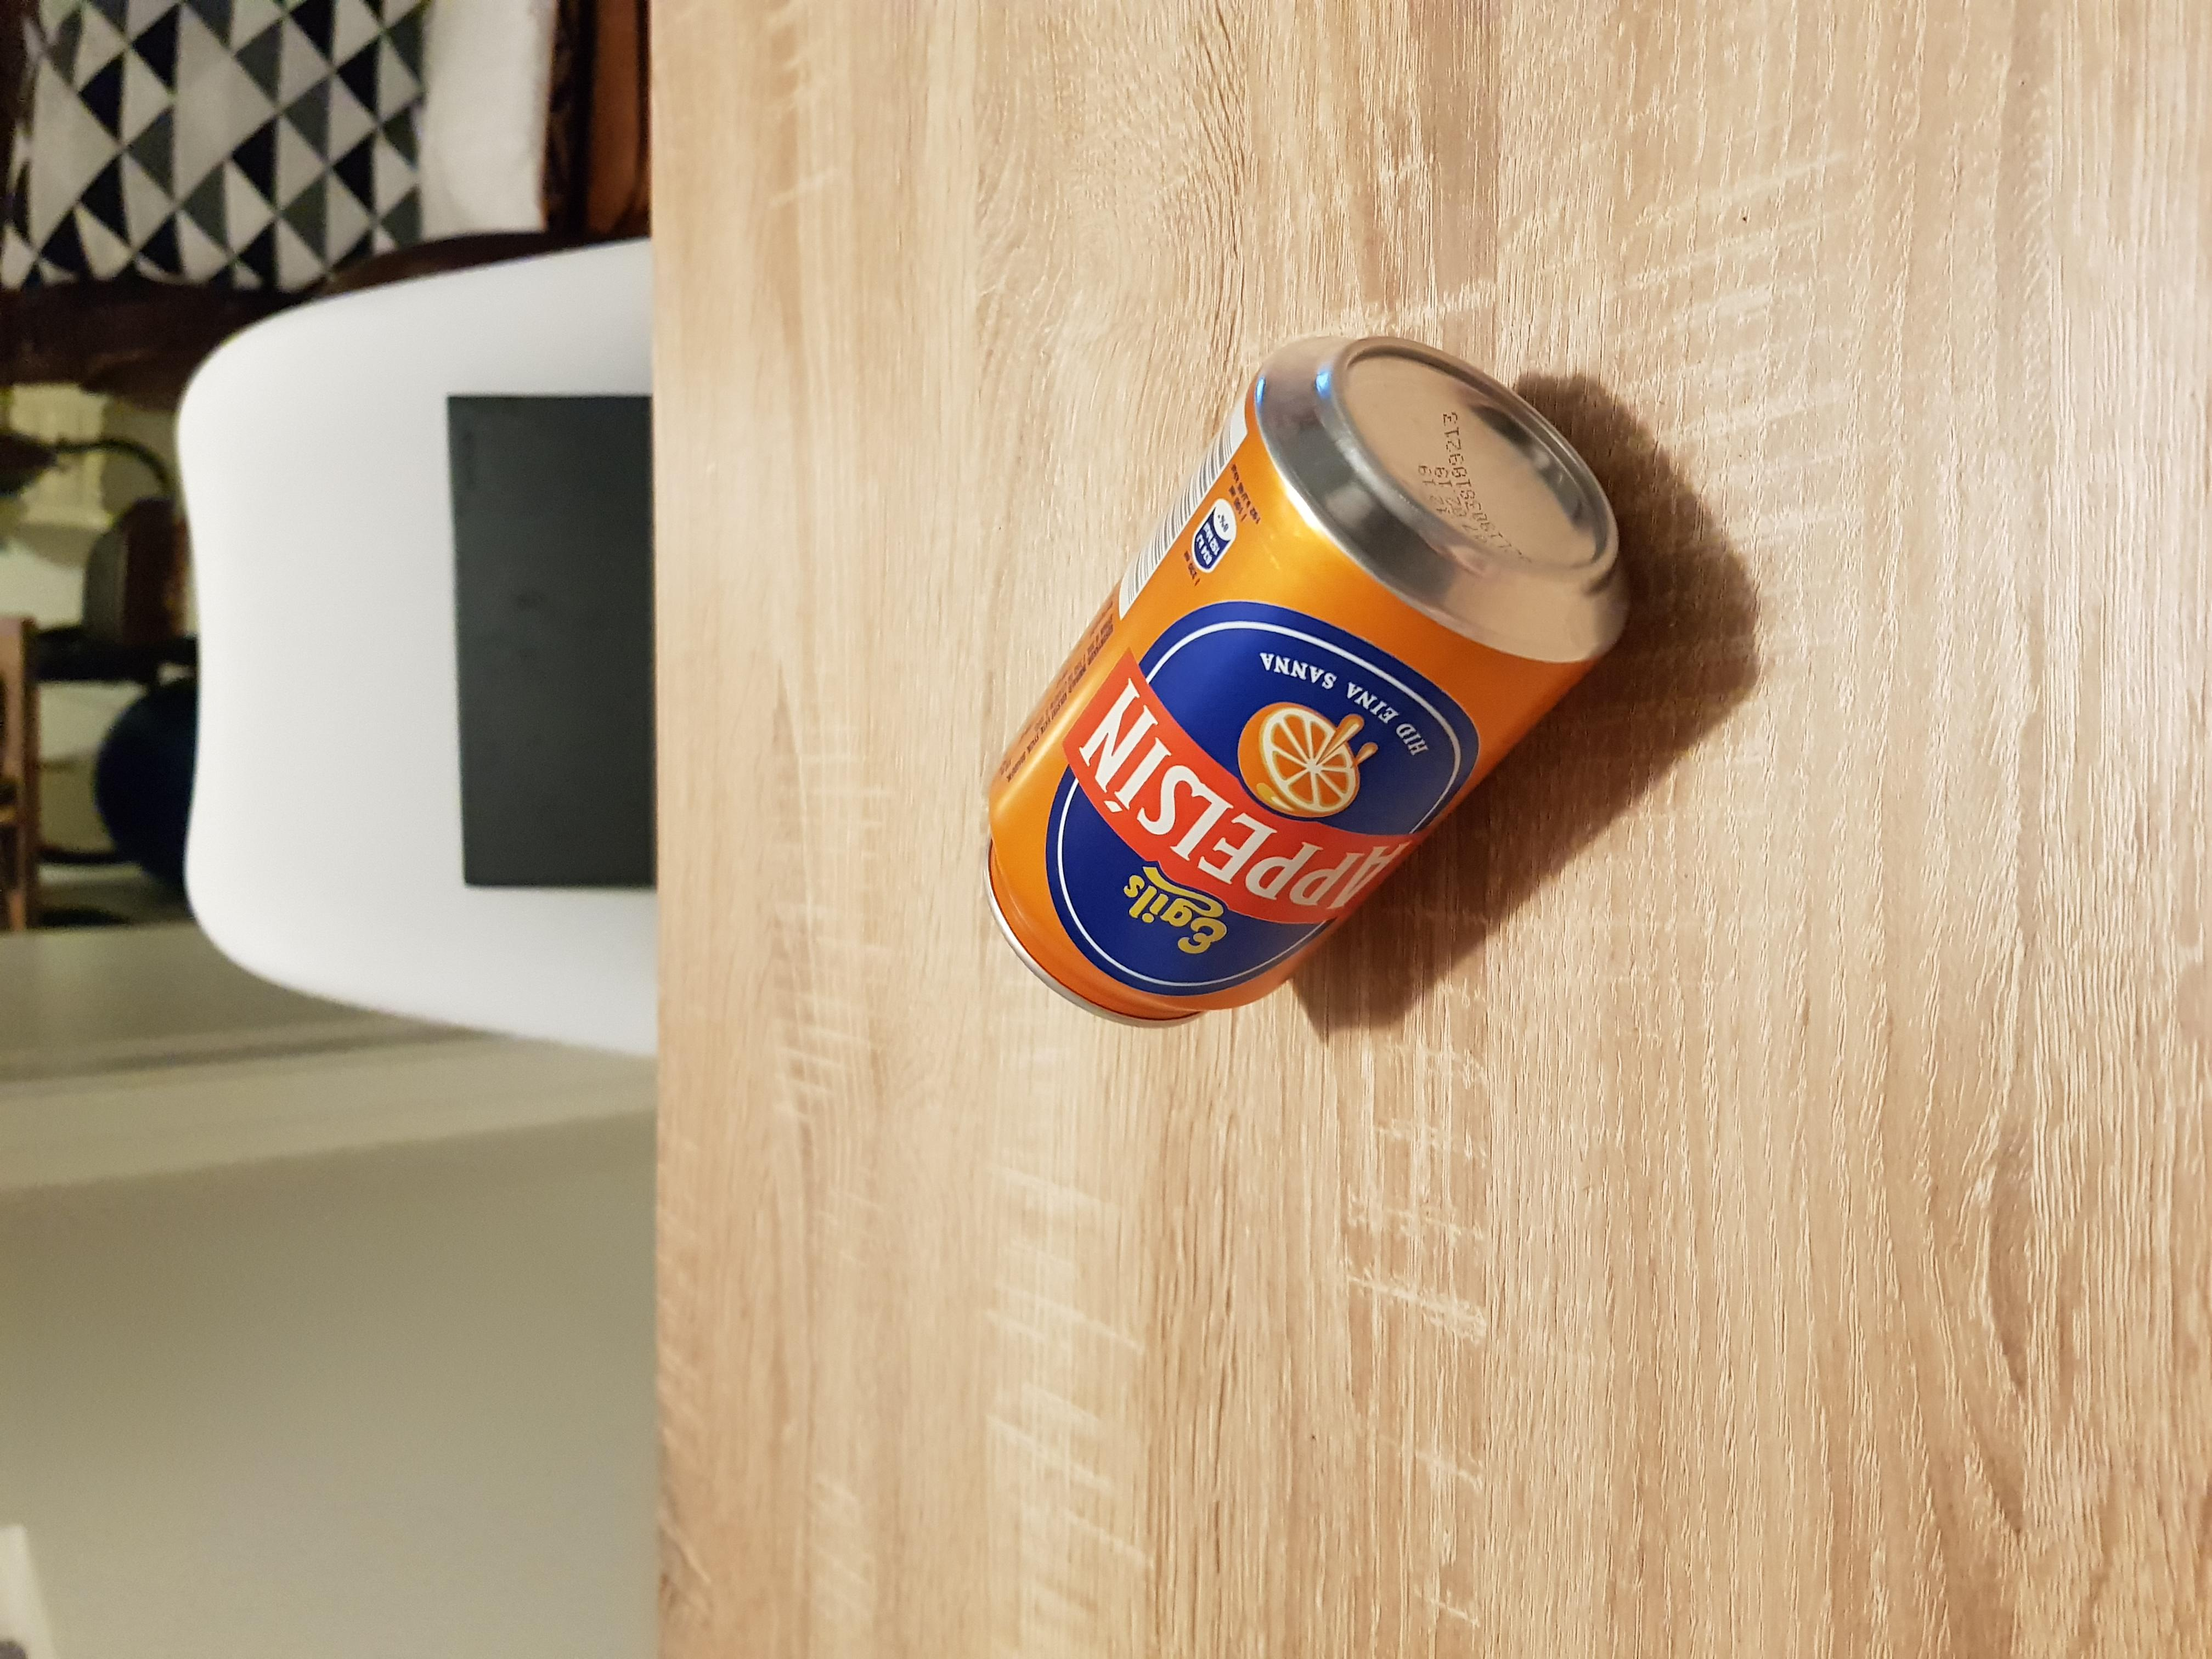can: (968, 321, 1644, 1039)
